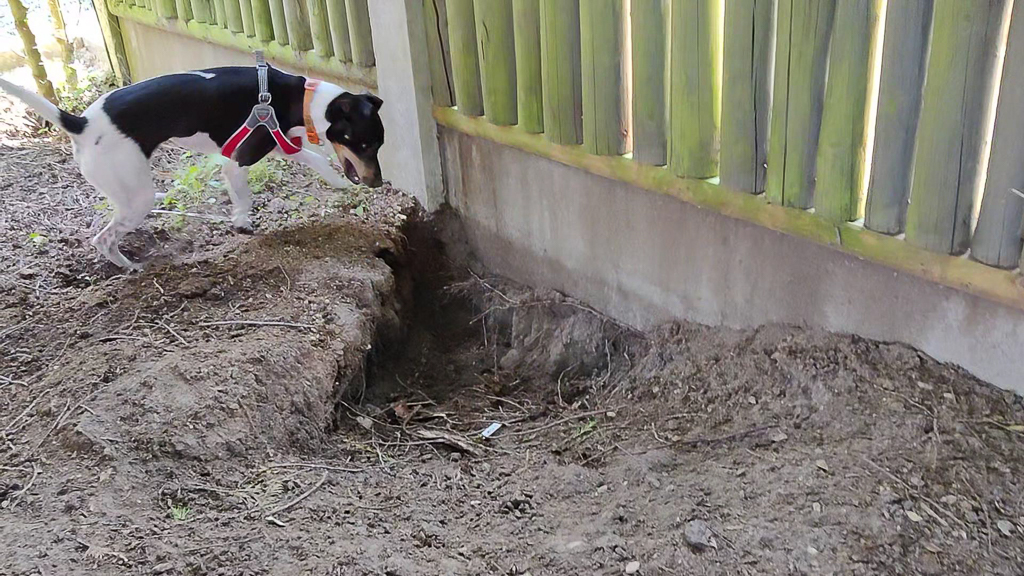Dog: (0, 48, 396, 275)
